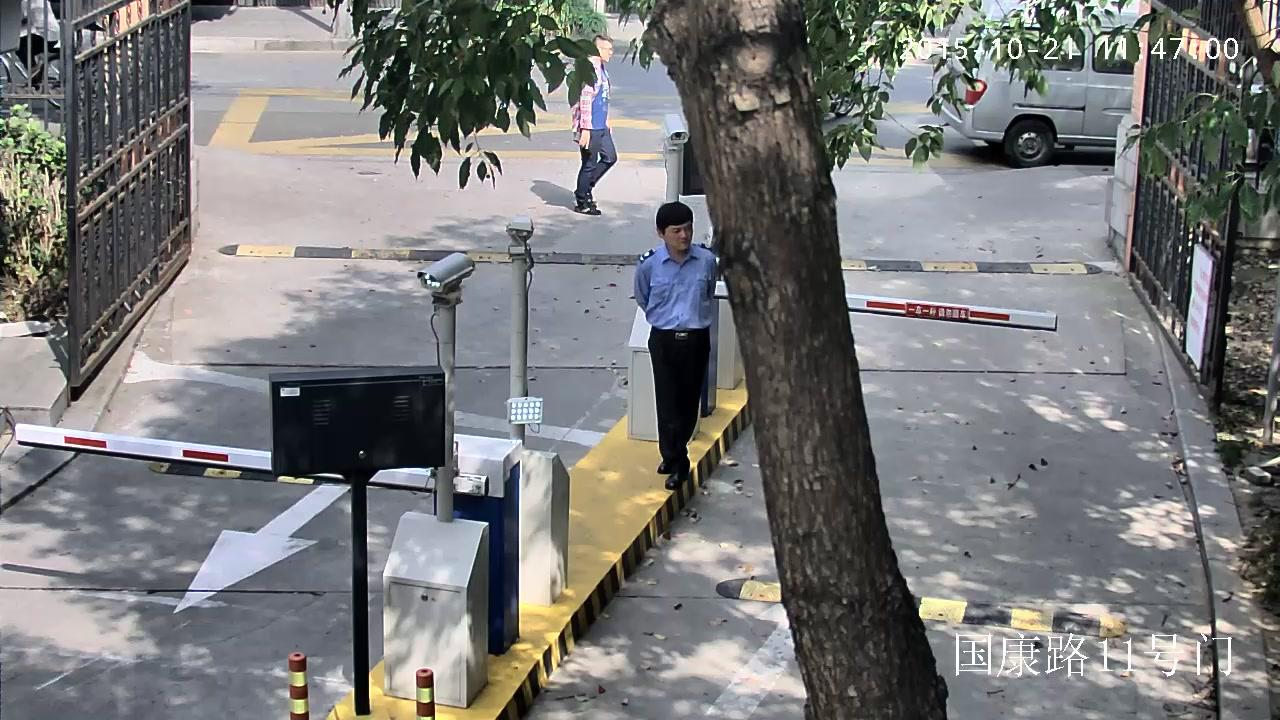face: (667, 224, 692, 249), (603, 41, 612, 61)
